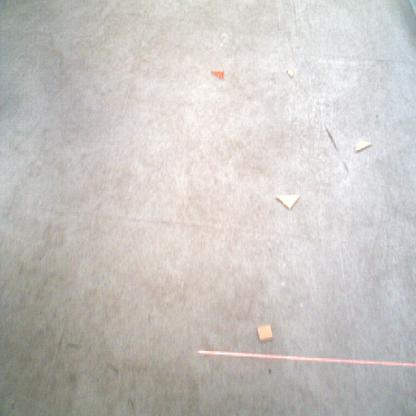dirty: (274, 194, 302, 211), (256, 323, 273, 344), (353, 140, 372, 152), (211, 68, 225, 80), (285, 68, 295, 80)
mark: (324, 125, 339, 151), (106, 362, 119, 376), (126, 395, 134, 411), (341, 158, 349, 172), (68, 374, 77, 386), (66, 340, 79, 348), (146, 309, 152, 325), (9, 402, 15, 411), (266, 366, 272, 374), (374, 112, 380, 120)
